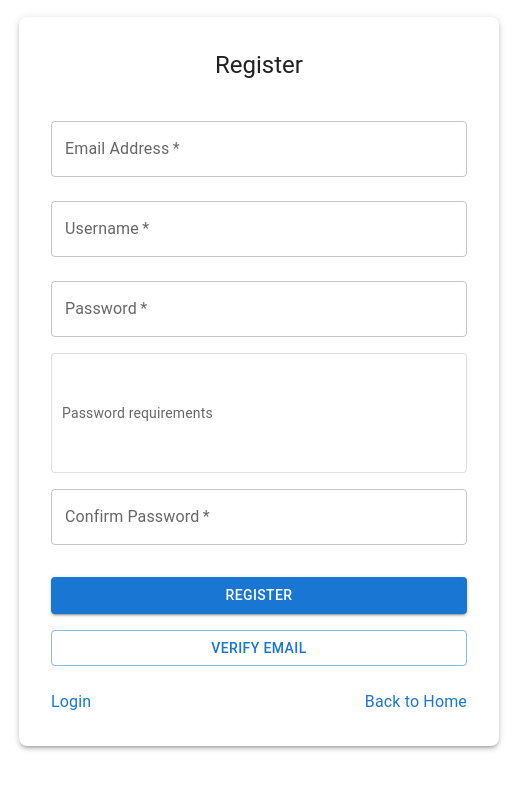
Test: RegistrationPage › handles registration error
Type "existing@example.com" into the field labelled "Email Address *".
click(259, 149); type("existing@example.com")  # box [51,121,467,177]
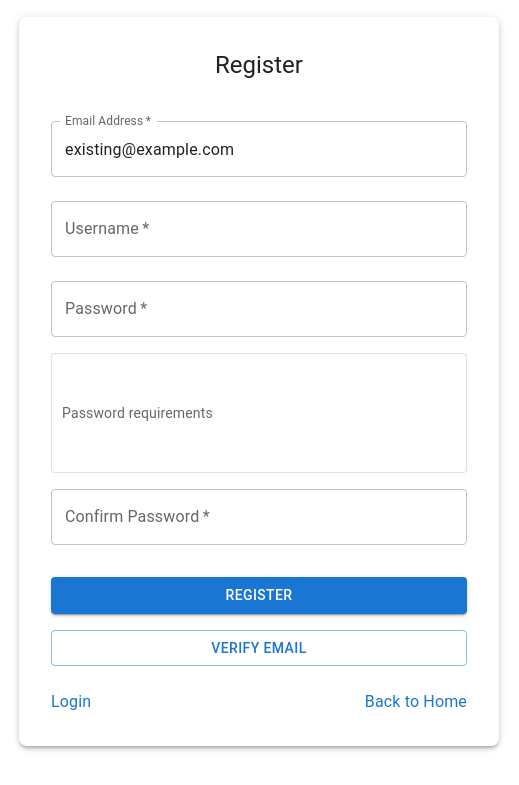
Type "User" into the field labelled "Username *".
click(259, 229); type("User")  # box [51,201,467,257]
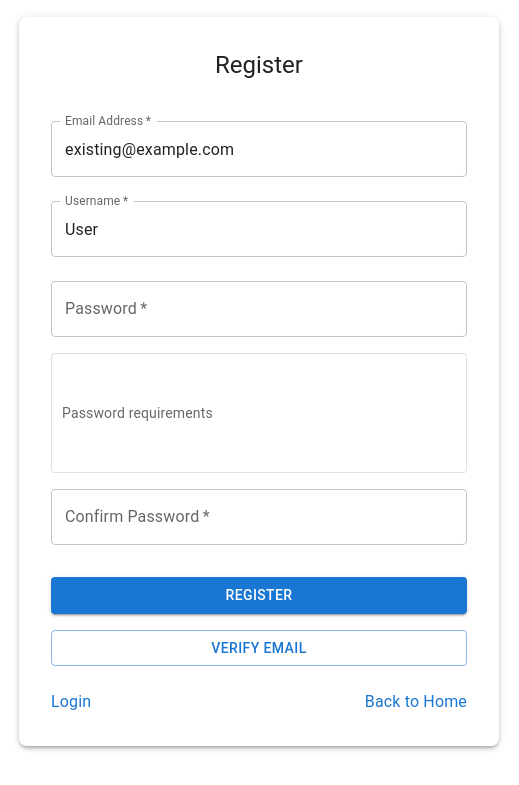
Type "Password123@" into the password field labelled "Password *".
click(259, 309); type("Password123@")  # box [51,281,467,337]
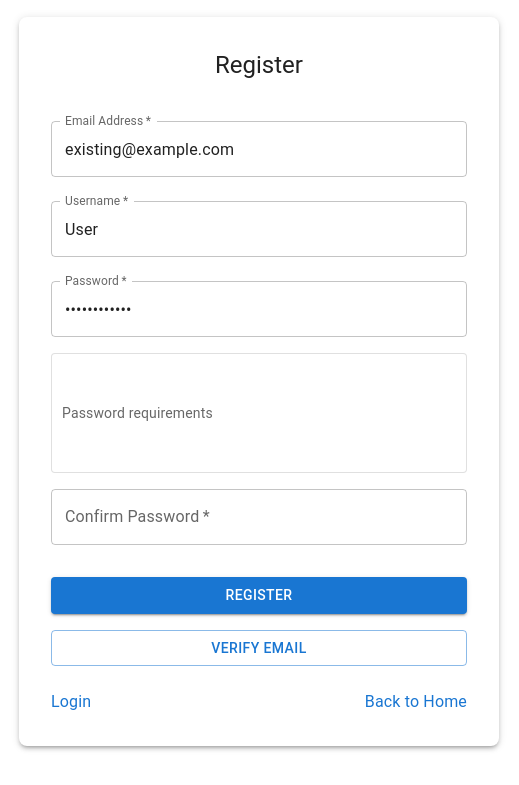
Type "Password123@" into the password field labelled "Confirm Password *".
click(259, 517); type("Password123@")  # box [51,489,467,545]
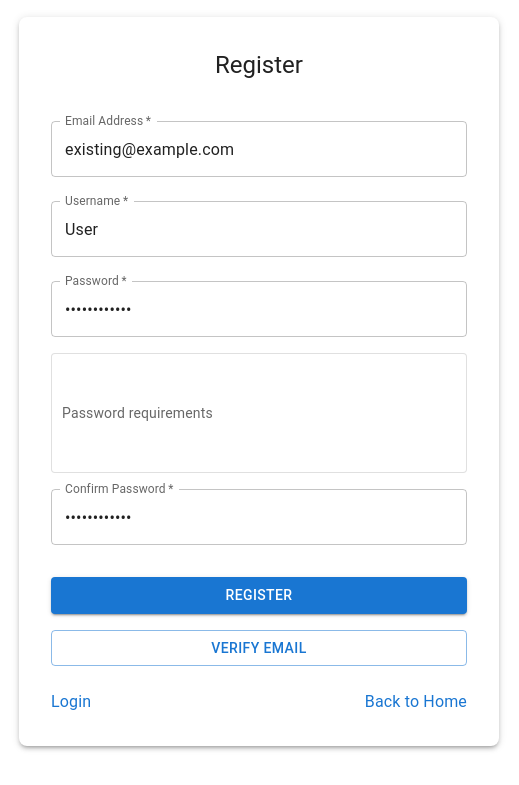
Click the button "Register".
click(259, 595)  # box [51,577,467,614]
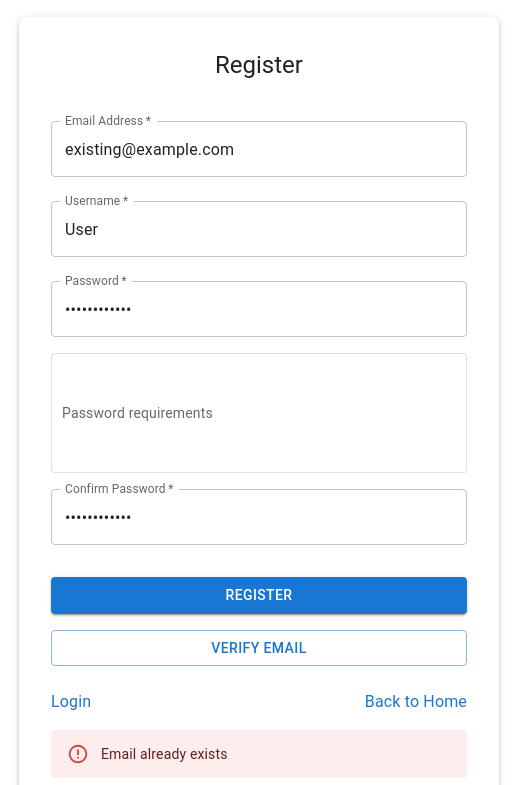
Result: the message "Email already exists" is shown at [51,730,467,778]
Result: the message reads "Email already exists" at [101,746,228,762]
